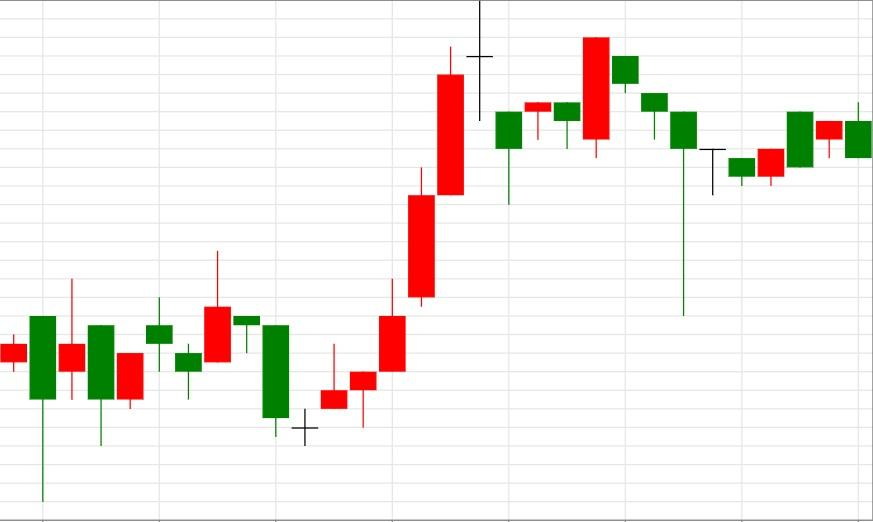bullish_engulfing_rise: (582, 36, 785, 317)
three_black_crows_fall: (495, 36, 698, 317)
three_white_soldiers_rise: (203, 250, 407, 446)
